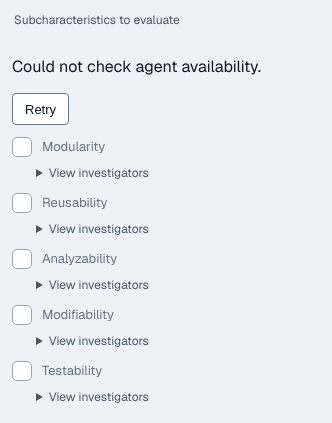
Test case: maintainability configuration › does not assume availability while loading or after a failure and allows retrying
Expected: the checkbox labelled "Modularity" is disabled, [12, 137, 105, 157]
Expected: the checkbox labelled "Reusability" is disabled, [12, 193, 108, 213]
Click the button "Retry". click: (41, 109)
box: [12, 93, 69, 125]
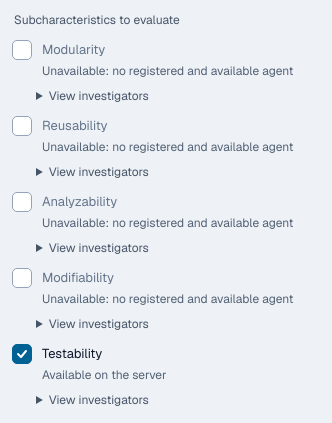
Expected: the checkbox labelled "Testability" is checked, [12, 344, 166, 384]
Expected: the message "Could not check agent availability. Retry" is gone
